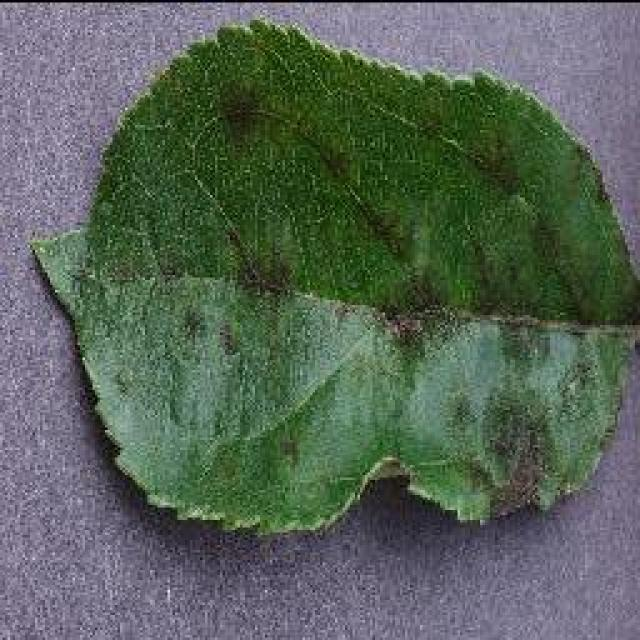apple scab disease: (28, 15, 638, 537)
